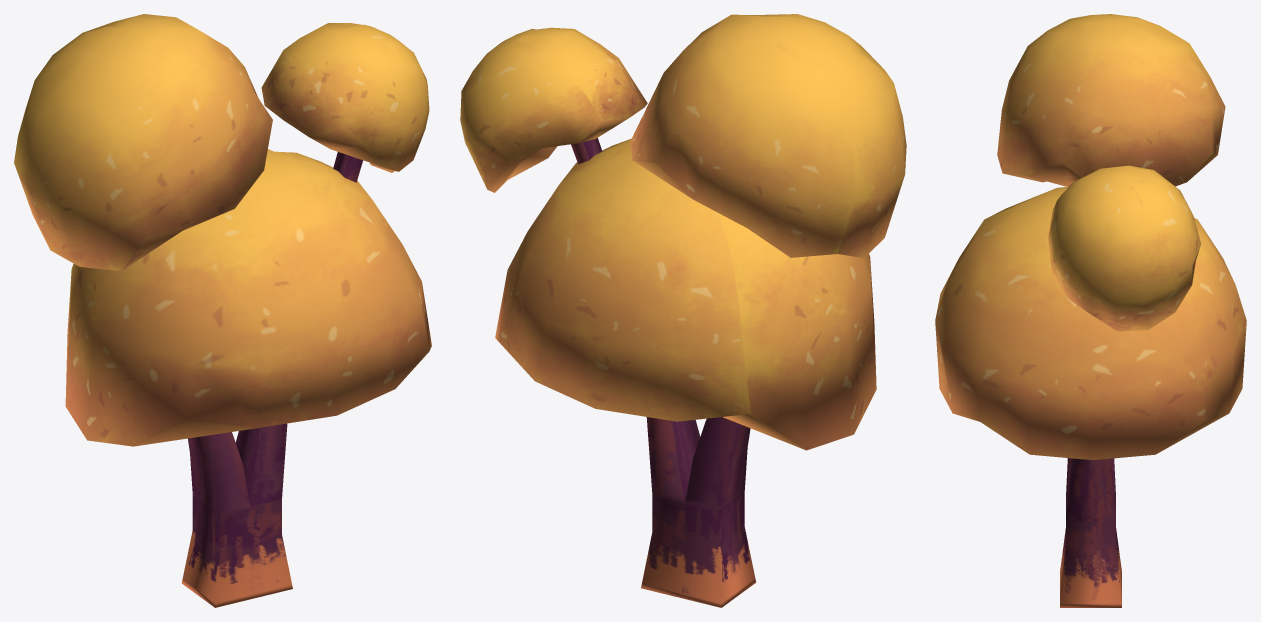
The model's file is tree_005.glb.
3 renders of one model, left to right at view 1: azimuth 30°, elevation 25°; view 2: azimuth 150°, elevation 25°; view 3: azimuth 270°, elevation 25°, orthographic. The views are drawn at different scales.
Parts seen in each view (by area): view 1: tree005_leaves, tree005_trunk; view 2: tree005_leaves, tree005_trunk; view 3: tree005_leaves, tree005_trunk.
Part boxes in pixels (x1=…): tree005_leaves: x1=14, y1=14, x2=431, y2=446; tree005_trunk: x1=181, y1=152, x2=362, y2=607; tree005_leaves: x1=460, y1=14, x2=906, y2=450; tree005_trunk: x1=571, y1=138, x2=756, y2=607; tree005_leaves: x1=935, y1=14, x2=1246, y2=460; tree005_trunk: x1=1060, y1=458, x2=1121, y2=607.
Size of the model in its own units: 4.83 by 6.63 by 3.55.
Materials: 1 (1 with a texture image).
